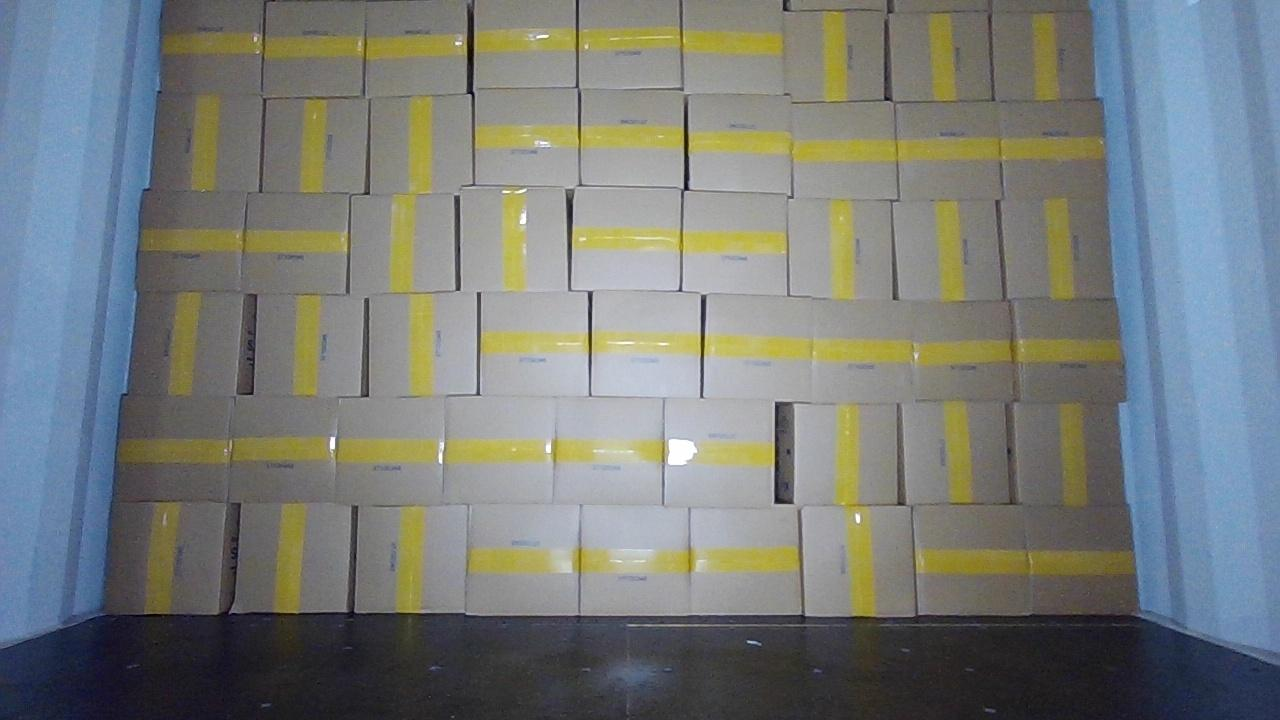carton: (106, 502, 238, 614), (128, 292, 255, 396), (232, 503, 351, 613), (801, 507, 916, 616), (465, 505, 579, 614), (778, 403, 899, 505), (913, 507, 1028, 613), (116, 396, 232, 500), (691, 507, 801, 615), (356, 506, 468, 612), (1010, 404, 1126, 506), (664, 398, 772, 507), (581, 505, 688, 615), (1025, 507, 1135, 614), (336, 397, 444, 505), (702, 294, 811, 401), (590, 290, 700, 395), (1012, 300, 1125, 402), (446, 396, 555, 501), (254, 294, 366, 396), (556, 397, 662, 503), (461, 187, 569, 291), (570, 187, 680, 289), (1000, 199, 1113, 298), (231, 396, 336, 502), (369, 293, 477, 395), (152, 91, 262, 191), (482, 292, 588, 395), (137, 192, 247, 291), (891, 201, 1002, 299), (810, 299, 914, 403), (903, 403, 1010, 503), (683, 191, 786, 294), (788, 199, 893, 299), (350, 195, 457, 293), (997, 101, 1105, 198), (474, 88, 578, 187), (244, 194, 348, 293), (910, 301, 1014, 399), (369, 95, 472, 193), (687, 96, 791, 193), (792, 103, 898, 198), (897, 103, 1001, 199), (580, 91, 684, 187), (365, 0, 468, 96), (264, 98, 368, 193), (162, 0, 263, 94), (681, 0, 782, 94), (264, 2, 362, 95), (784, 11, 886, 100), (473, 0, 576, 88), (889, 13, 992, 101), (578, 0, 682, 87), (992, 13, 1094, 100)
